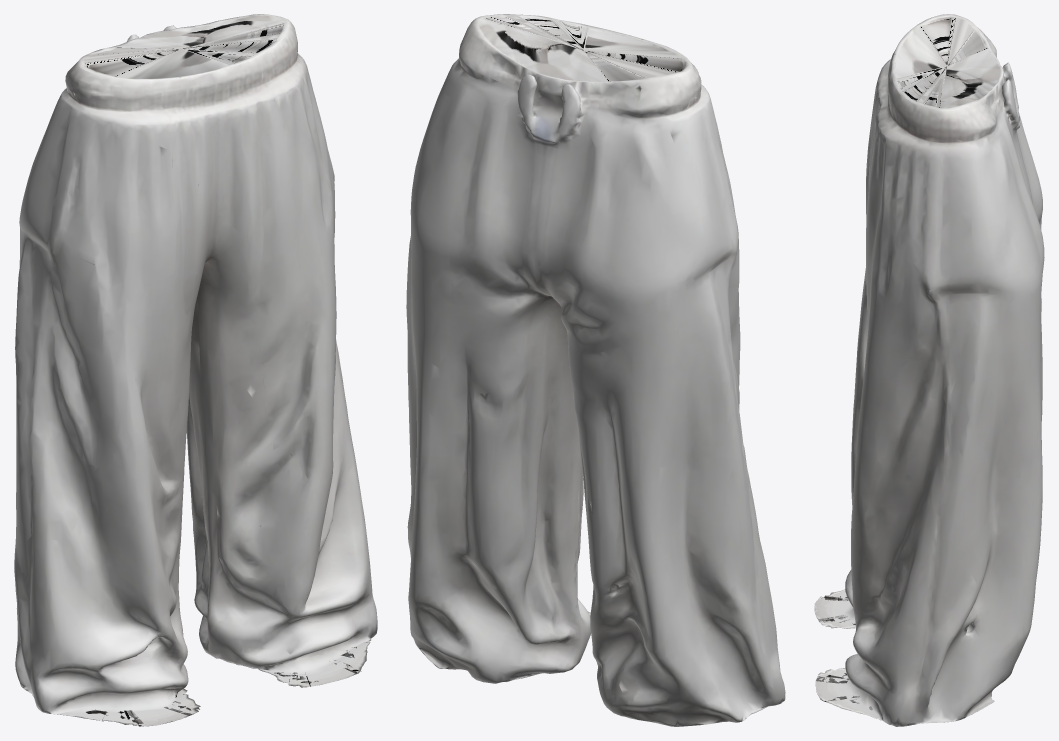
Rendered from jogger.glb.
3 renders of one model, left to right at view 1: azimuth 30°, elevation 25°; view 2: azimuth 150°, elevation 25°; view 3: azimuth 270°, elevation 25°, orthographic. The views are drawn at different scales.
Visible parts, largest first — view 1: geometry_0; view 2: geometry_0; view 3: geometry_0.
Boxes of the visible parts, x1,y1,x2,y2 form: geometry_0: (14, 14, 377, 726); geometry_0: (406, 14, 785, 726); geometry_0: (814, 14, 1044, 726).
Bounding box in the file's own units: 0.5464 × 0.9372 × 0.3331.
Materials: 1 (1 with a texture image).
